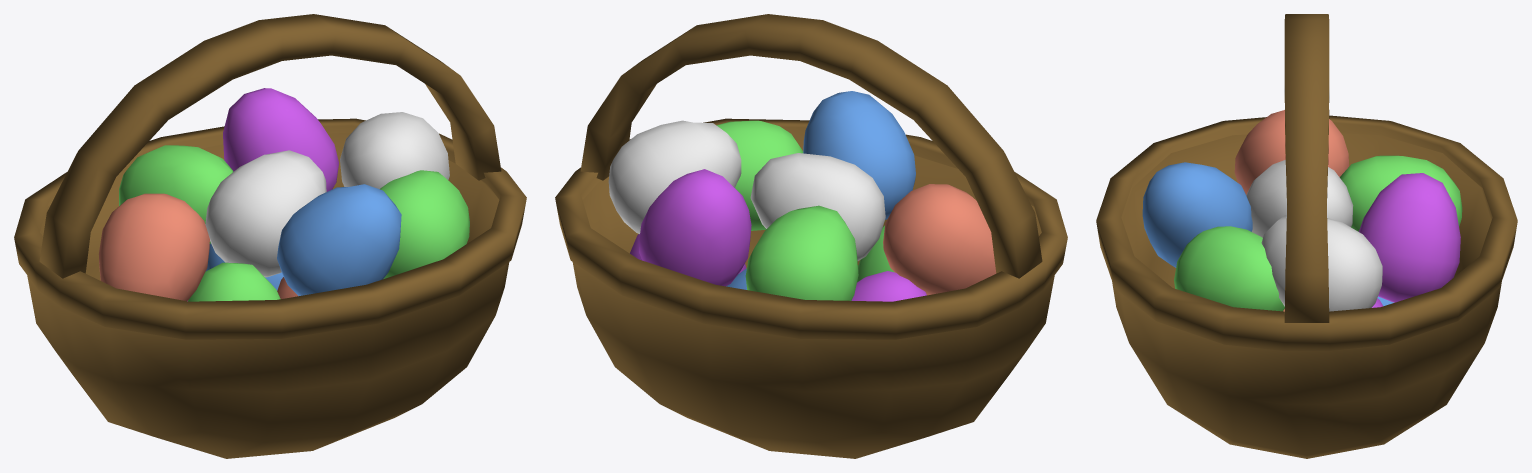
File: basket.fbx
The picture shows the model from 3 angles, left to right: view 1: azimuth 30°, elevation 25°; view 2: azimuth 150°, elevation 25°; view 3: azimuth 270°, elevation 25°; orthographic projection. The views are drawn at different scales.
Parts seen in each view (by area): view 1: Basket, Eggs; view 2: Basket, Eggs; view 3: Basket, Eggs.
Boxes of the visible parts, left/top/right/bottom form: Basket: left=14, top=14, right=526, bottom=458; Eggs: left=98, top=88, right=469, bottom=301; Basket: left=555, top=14, right=1067, bottom=458; Eggs: left=608, top=91, right=996, bottom=301; Basket: left=1096, top=14, right=1517, bottom=458; Eggs: left=1142, top=110, right=1462, bottom=311.
Size of the model in its own units: 0.3921 by 0.3376 by 0.3318.
